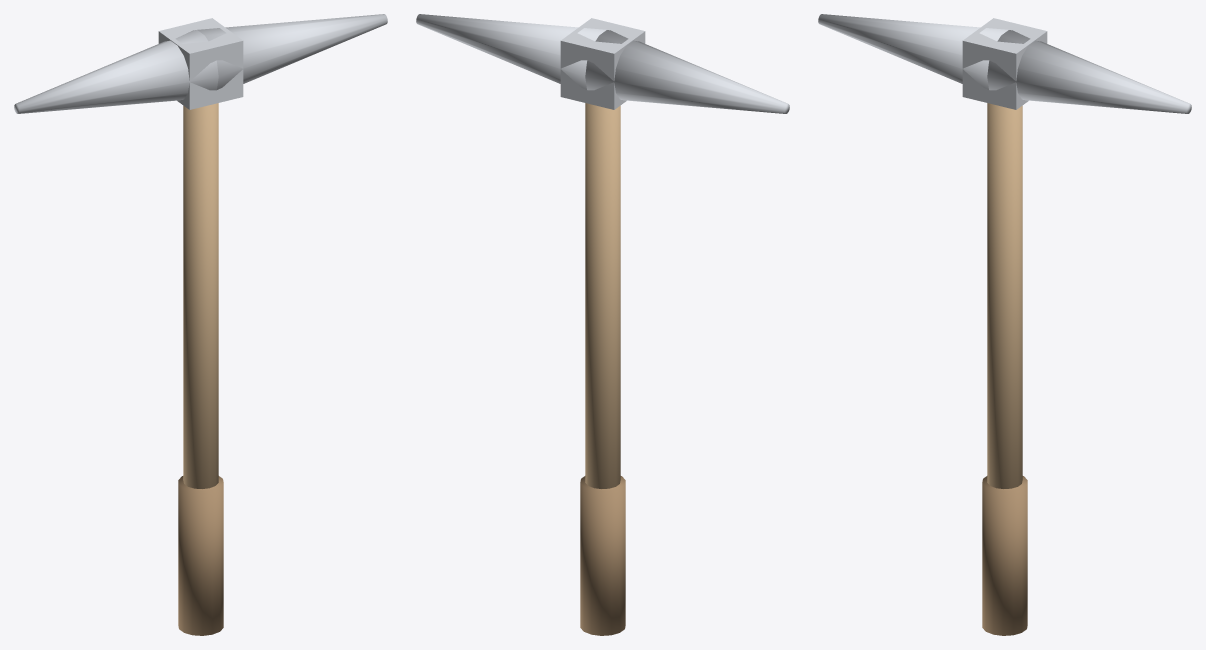
Rendered from VTool_Pick.fbx.
3 renders of one model, left to right at view 1: azimuth 30°, elevation 25°; view 2: azimuth 150°, elevation 25°; view 3: azimuth 330°, elevation 25°, orthographic.
Parts seen in each view (by area): view 1: VTool_Pick; view 2: VTool_Pick; view 3: VTool_Pick.
Boxes of the visible parts, x1,y1,x2,y2 form: VTool_Pick: (14, 14, 387, 635); VTool_Pick: (416, 14, 789, 635); VTool_Pick: (818, 14, 1191, 635).
Size of the model in its own units: 0.48 by 0.739 by 0.08.
